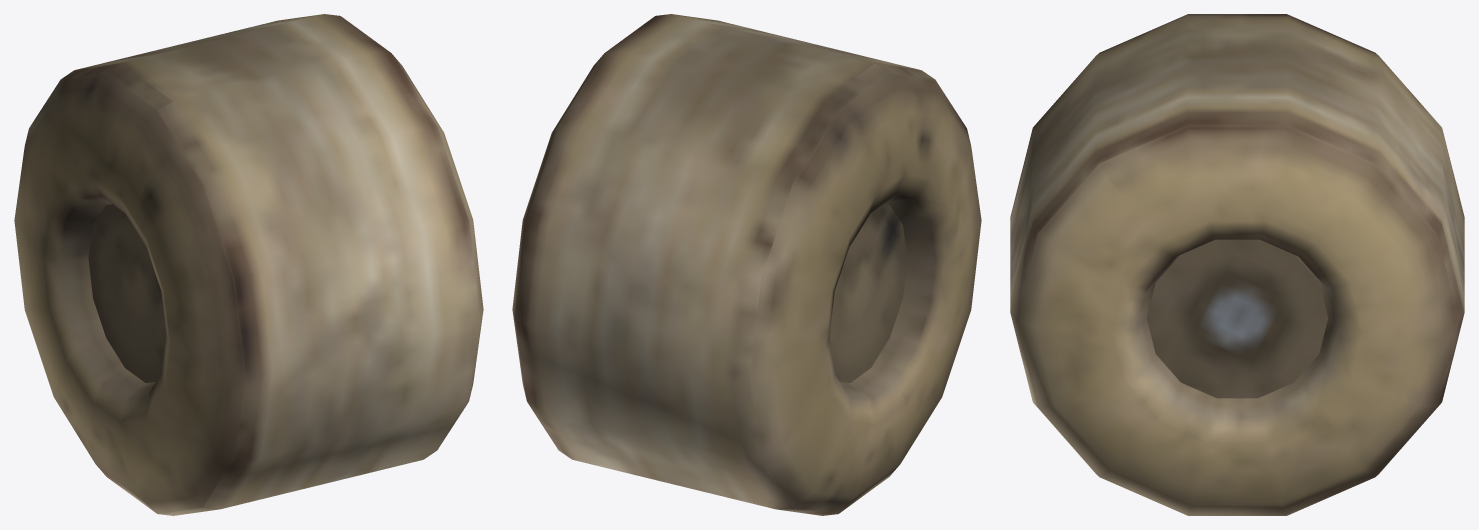
The model's file is wheel_2.glb.
3 views of the same model, side by side, from view 1: azimuth 30°, elevation 25°; view 2: azimuth 150°, elevation 25°; view 3: azimuth 270°, elevation 25° (orthographic). The views are drawn at different scales.
Visible parts, largest first — view 1: wheel.004; view 2: wheel.004; view 3: wheel.004.
Boxes of the visible parts, x1,y1,x2,y2 form: wheel.004: [14, 14, 483, 515]; wheel.004: [512, 14, 981, 515]; wheel.004: [1010, 14, 1464, 515].
Size of the model in its own units: 0.0699 by 0.097 by 0.0995.
Materials: 1 (1 with a texture image).
